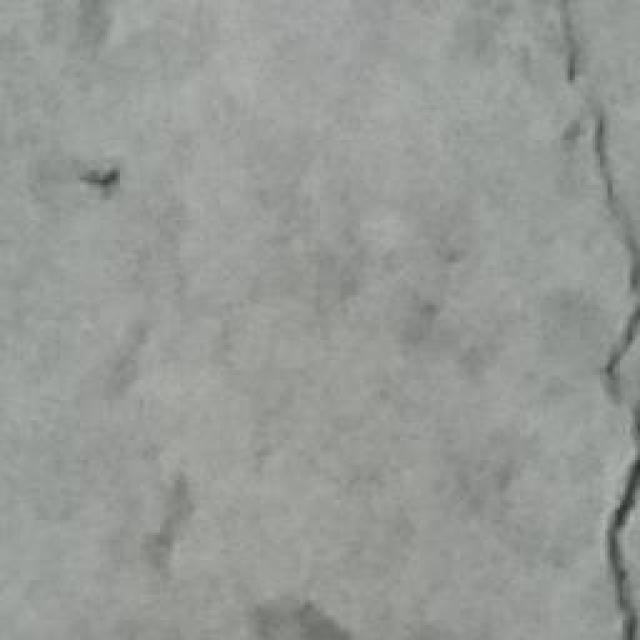Longitudinal: (500, 0, 638, 640)
